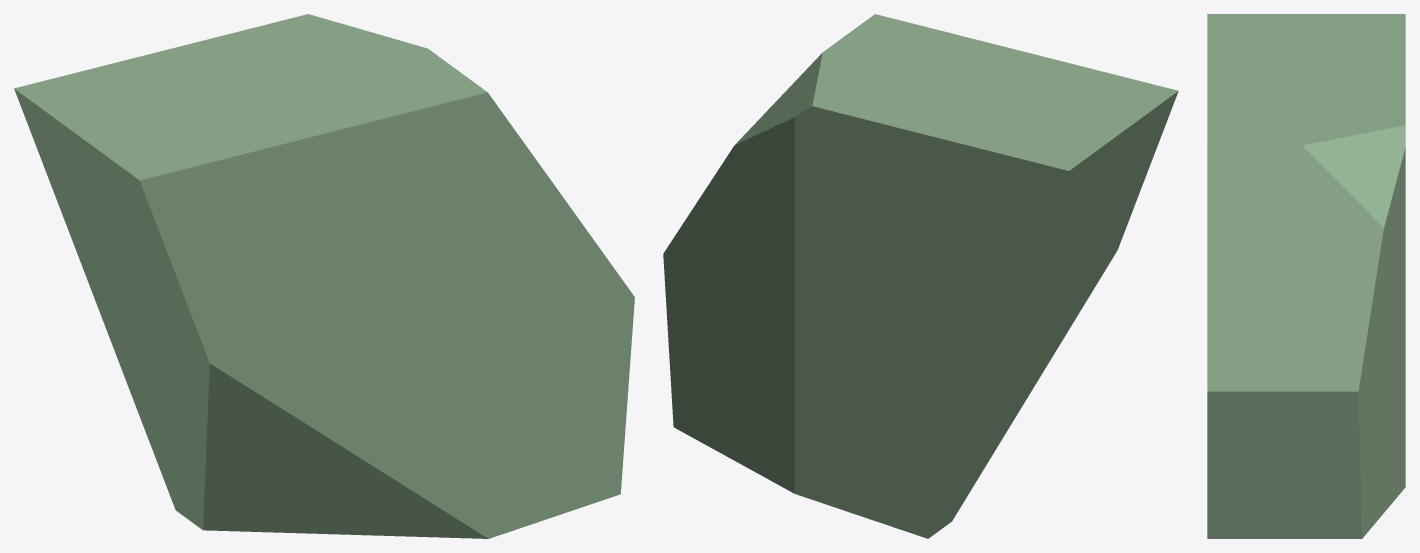
Rendered from convex_rock4.obj.
3 views of the same model, side by side, from view 1: azimuth 30°, elevation 25°; view 2: azimuth 150°, elevation 25°; view 3: azimuth 270°, elevation 25° (orthographic). The views are drawn at different scales.
Parts seen in each view (by area): view 1: rock4\Solid; view 2: rock4\Solid; view 3: rock4\Solid.
Boxes of the visible parts, x1,y1,x2,y2 form: rock4\Solid: (14,14,634,538); rock4\Solid: (663,14,1178,538); rock4\Solid: (1207,14,1405,538).
Bounding box in the file's own units: 865 × 775 × 380.
